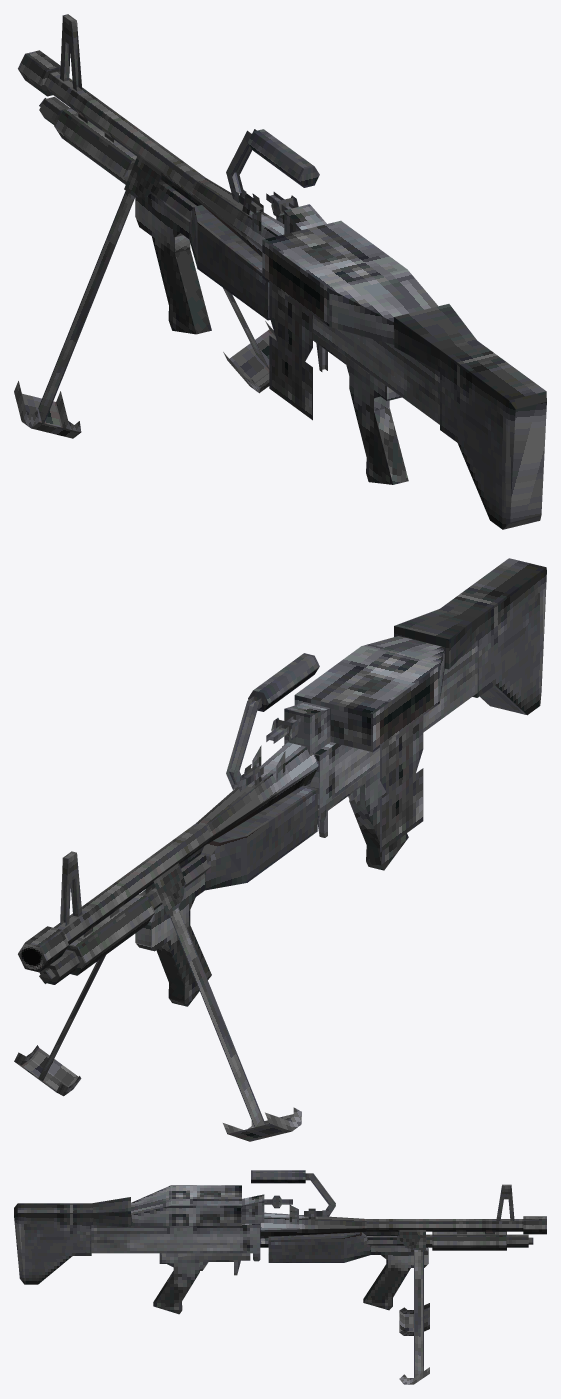
Rendered from recovered_gun_m60e_4cd3ad82.glb.
3 renders of one model, top to bottom at view 1: azimuth 30°, elevation 25°; view 2: azimuth 150°, elevation 25°; view 3: azimuth 270°, elevation 25°, orthographic. The views are drawn at different scales.
Parts seen in each view (by area): view 1: Gun_dfa48d4c2edc; view 2: Gun_dfa48d4c2edc; view 3: Gun_dfa48d4c2edc.
Boxes of the visible parts, box(x1,y1,x2,y2) form: Gun_dfa48d4c2edc: box(14, 14, 546, 529); Gun_dfa48d4c2edc: box(14, 558, 546, 1141); Gun_dfa48d4c2edc: box(14, 1170, 546, 1384).
Size of the model in its own units: 0.332 by 0.4142 by 1.06.
Materials: 2 (2 with a texture image).
